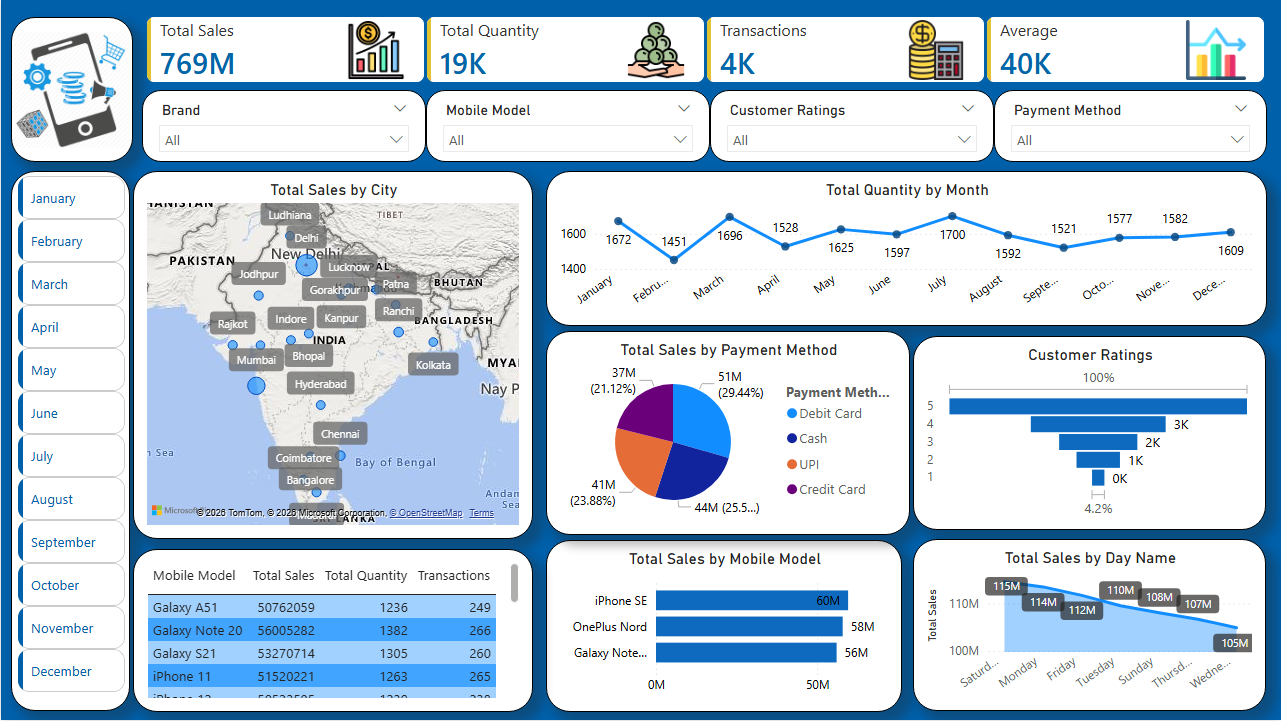

This screenshot's page, from the dashboard's own definition file:
{"tool":"powerbi","page":{"name":"Page 1","canvas":[1280,720],"ordinal":0},"visuals":[{"type":"shape","box":[10,17,122,145],"z":0},{"type":"shape","box":[10,171,119,540],"z":1000},{"type":"advancedSlicerVisual","fields":{"Values":["Seles_data.Date.Variation.Date Hierarchy.Month"]},"box":[12.3,171.2,116.8,528.6],"z":2000},{"type":"cardVisual","fields":{"Data":["Sales_Data.Total Sales","Sales_Data.Total Quantity","Sales_Data.Transactions","Sales_Data.Average"]},"box":[129,0,1151,99],"z":3000},{"type":"map","fields":{"Category":["Sales_Data.City"],"Size":["Sales_Data.Total Sales"]},"box":[132,171,400,368],"z":4000},{"type":"lineChart","fields":{"Category":["Sales_Data.Date.Variation.Date Hierarchy.Month","Sales_Data.Date.Variation.Date Hierarchy.Day"],"Y":["Sales_Data.Total Quantity"]},"box":[545,171,721,155],"z":5000},{"type":"clusteredBarChart","fields":{"Category":["Sales_Data.Mobile Model"],"Y":["Sales_Data.Total Sales"]},"box":[545,540,356,172],"z":6000},{"type":"pieChart","fields":{"Y":["Sales_Data.Total Sales"],"Category":["Sales_Data.Payment Method"]},"box":[545,331,364,204],"z":7000},{"type":"funnel","title":"Customer Ratings ","fields":{"Category":["Sales_Data.Customer Ratings"],"Y":["Sum(Sales_Data.Customer Ratings)"]},"box":[912,336,353,194],"z":8000},{"type":"areaChart","fields":{"Category":["Sales_Data.Day Name"],"Y":["Sales_Data.Total Sales"]},"box":[912,539,353,172],"z":9000},{"type":"tableEx","fields":{"Values":["Sales_Data.Mobile Model","Sales_Data.Total Sales","Sales_Data.Total Quantity","Sales_Data.Transactions"]},"box":[132,549,400,163],"z":10000},{"type":"slicer","fields":{"Values":["Sales_Data.Brand"]},"box":[141,90,284,72],"z":11000},{"type":"slicer","fields":{"Values":["Sales_Data.Mobile Model"]},"box":[425,90,284,72],"z":12000},{"type":"slicer","fields":{"Values":["Sales_Data.Payment Method"]},"box":[993,90,273,72],"z":13000},{"type":"slicer","fields":{"Values":["Sales_Data.Customer Ratings"]},"box":[709,90,284,72],"z":14000},{"type":"image","box":[10,17,119,145],"z":15000}]}

Visuals, with their boxes in screenshot pixels (x1, y1, x2, y2), scaled from the page's 1280x720 canvas onto the 1281x721 screenshot:
shape: rect(10, 17, 132, 162)
shape: rect(10, 171, 129, 712)
advancedSlicerVisual - Seles_data.Date.Variation.Date Hierarchy.Month: rect(12, 171, 129, 701)
cardVisual - Sales_Data.Total Sales x Sales_Data.Total Quantity: rect(129, 0, 1280, 99)
map - Sales_Data.City x Sales_Data.Total Sales: rect(132, 171, 532, 540)
lineChart - Sales_Data.Date.Variation.Date Hierarchy.Month x Sales_Data.Date.Variation.Date Hierarchy.Day: rect(545, 171, 1267, 326)
clusteredBarChart - Sales_Data.Mobile Model x Sales_Data.Total Sales: rect(545, 541, 902, 713)
pieChart - Sales_Data.Total Sales x Sales_Data.Payment Method: rect(545, 331, 910, 536)
"Customer Ratings " funnel: rect(913, 336, 1266, 531)
areaChart - Sales_Data.Day Name x Sales_Data.Total Sales: rect(913, 540, 1266, 712)
tableEx - Sales_Data.Mobile Model x Sales_Data.Total Sales: rect(132, 550, 532, 713)
slicer - Sales_Data.Brand: rect(141, 90, 425, 162)
slicer - Sales_Data.Mobile Model: rect(425, 90, 710, 162)
slicer - Sales_Data.Payment Method: rect(994, 90, 1267, 162)
slicer - Sales_Data.Customer Ratings: rect(710, 90, 994, 162)
image: rect(10, 17, 129, 162)
